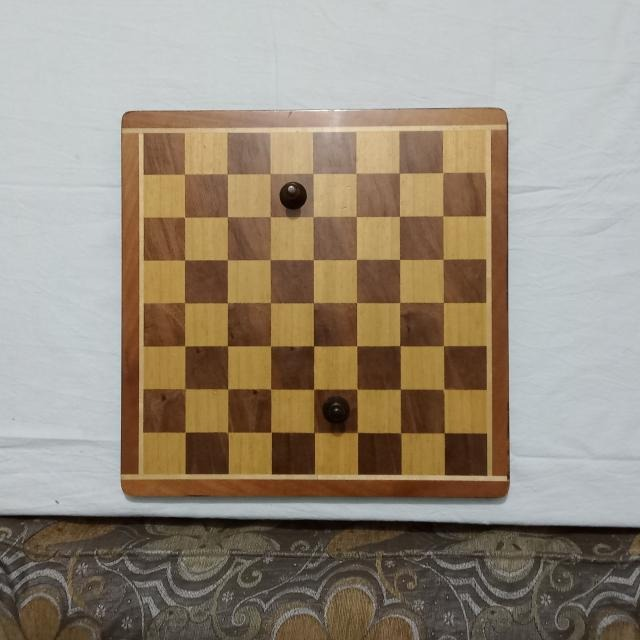black-pawn: (279, 180, 309, 212), (320, 394, 350, 426)
